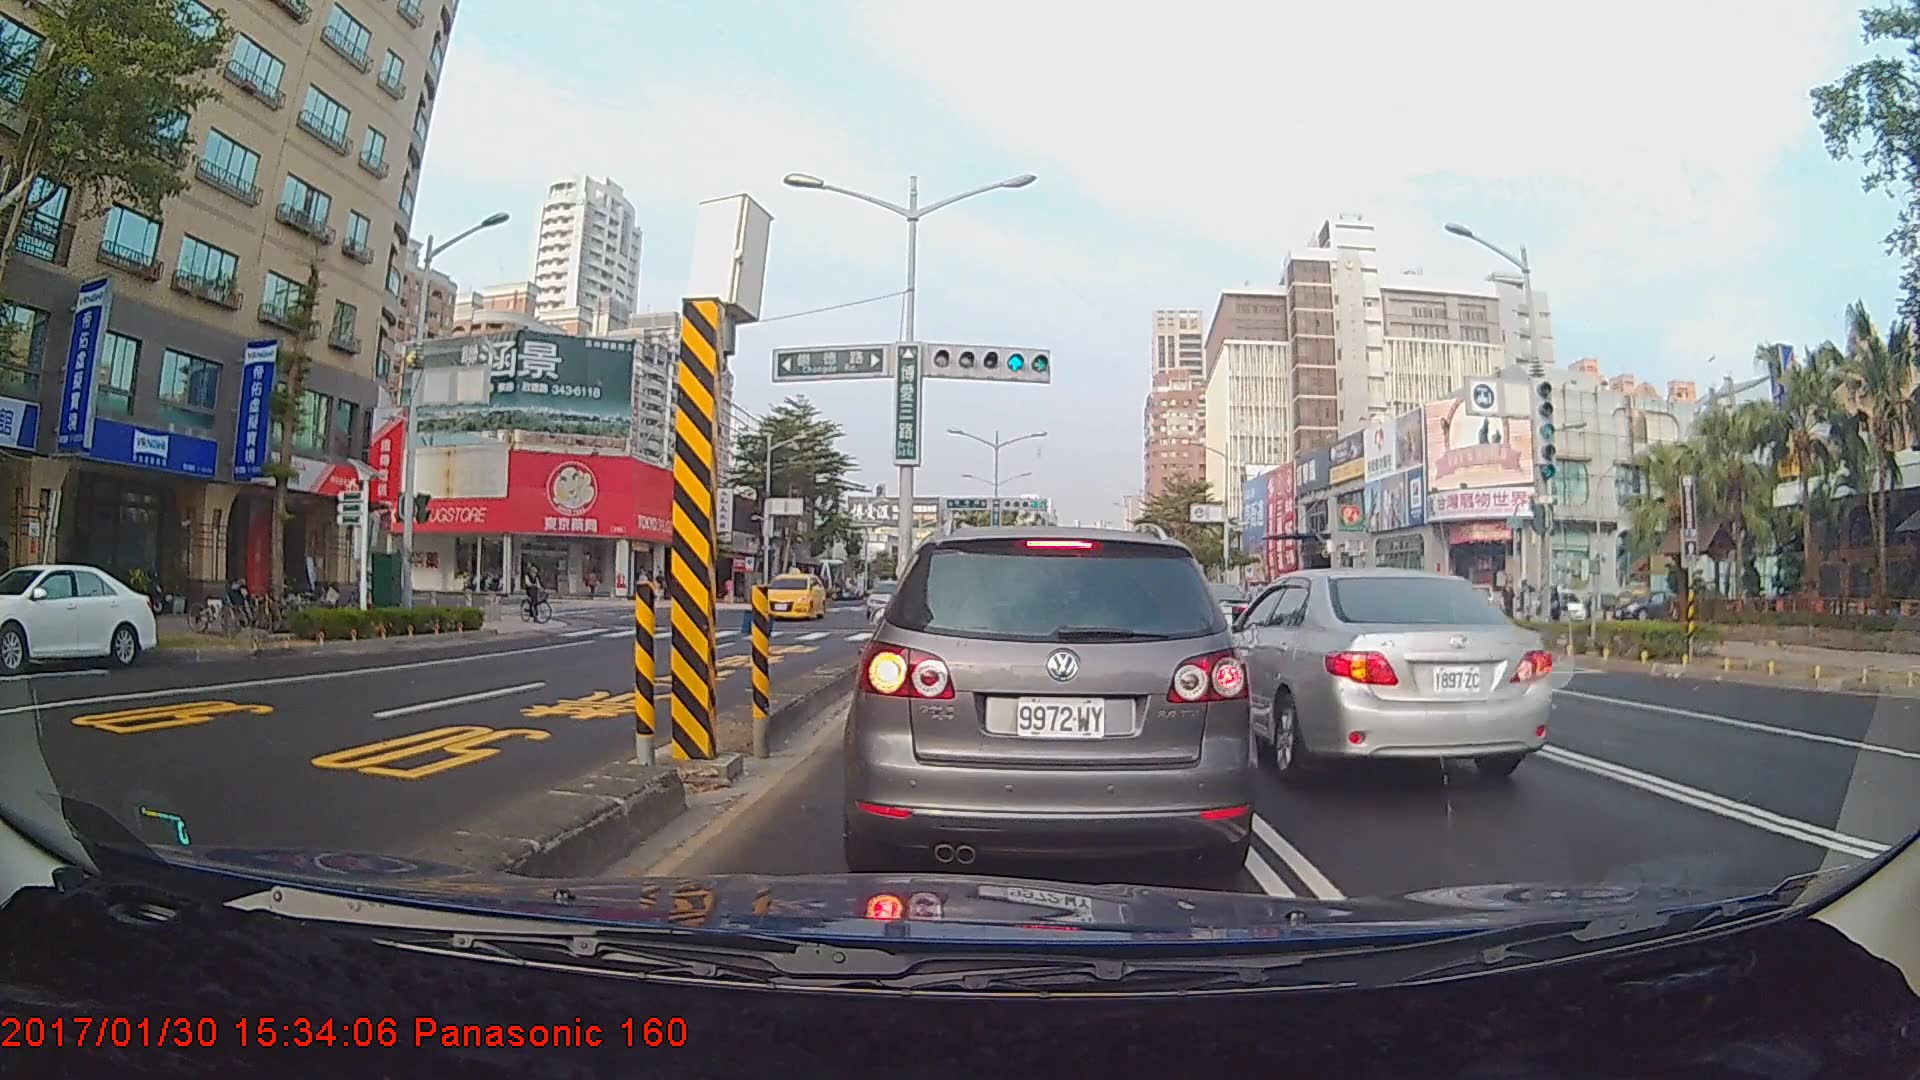rider: (518, 559, 561, 629)
vehicle: (851, 523, 1244, 879), (1184, 565, 1557, 792), (0, 561, 162, 671), (1185, 580, 1259, 640), (755, 575, 825, 623)
